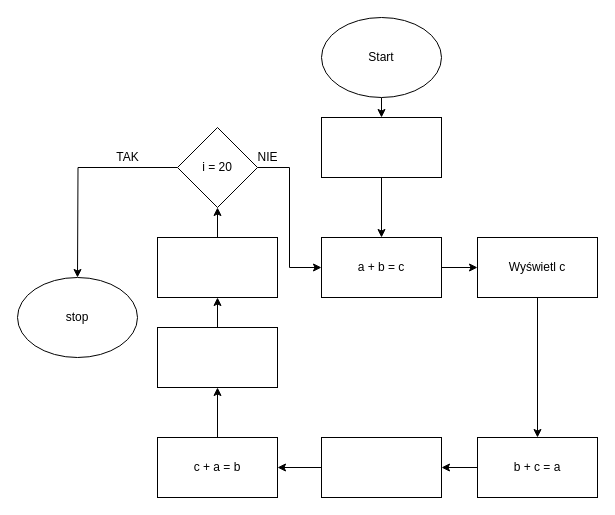
This 615x515 diagram has some shape labels left out. The shapes that lost their labels are listed below. From the top down, each one's box as (x1, y1, x2, y2) in pixels, then its label:
(320, 116, 442, 178): podaj a podaj b i = 0
(156, 236, 278, 298): i + 1
(156, 326, 278, 388): wyswietl b
(320, 436, 442, 498): Wyswietl a
